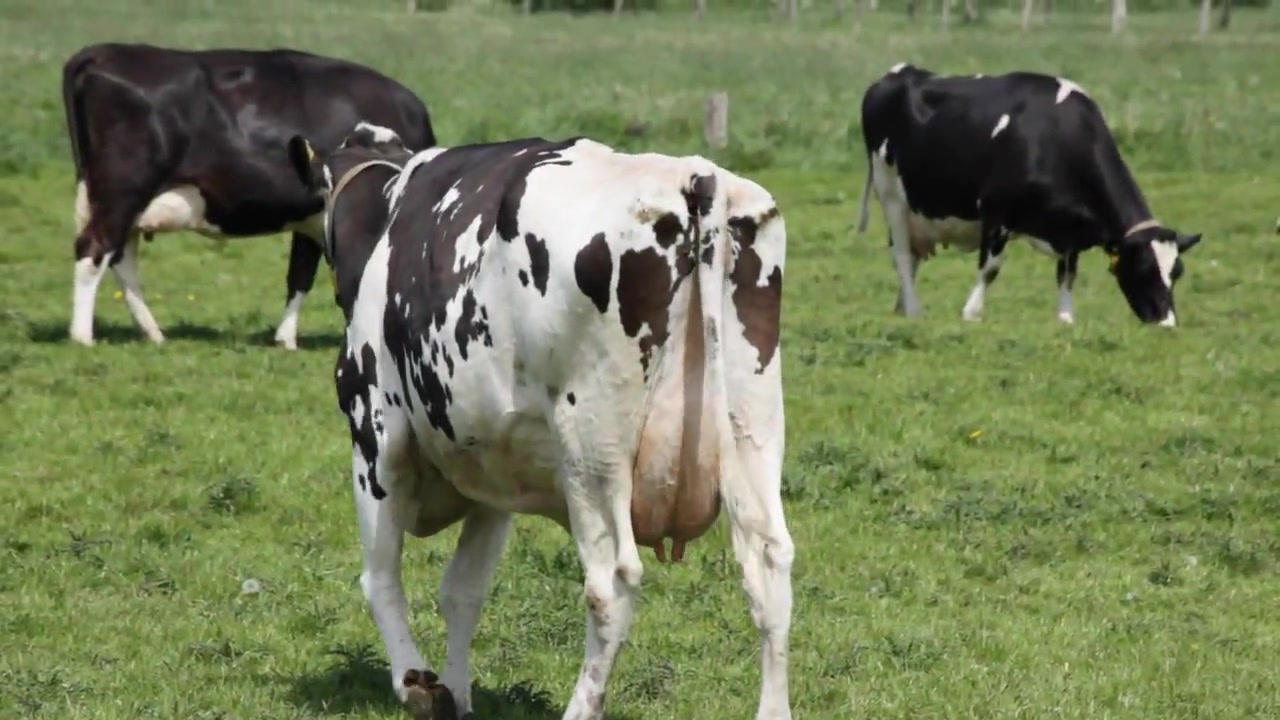cow: (291, 118, 802, 720)
